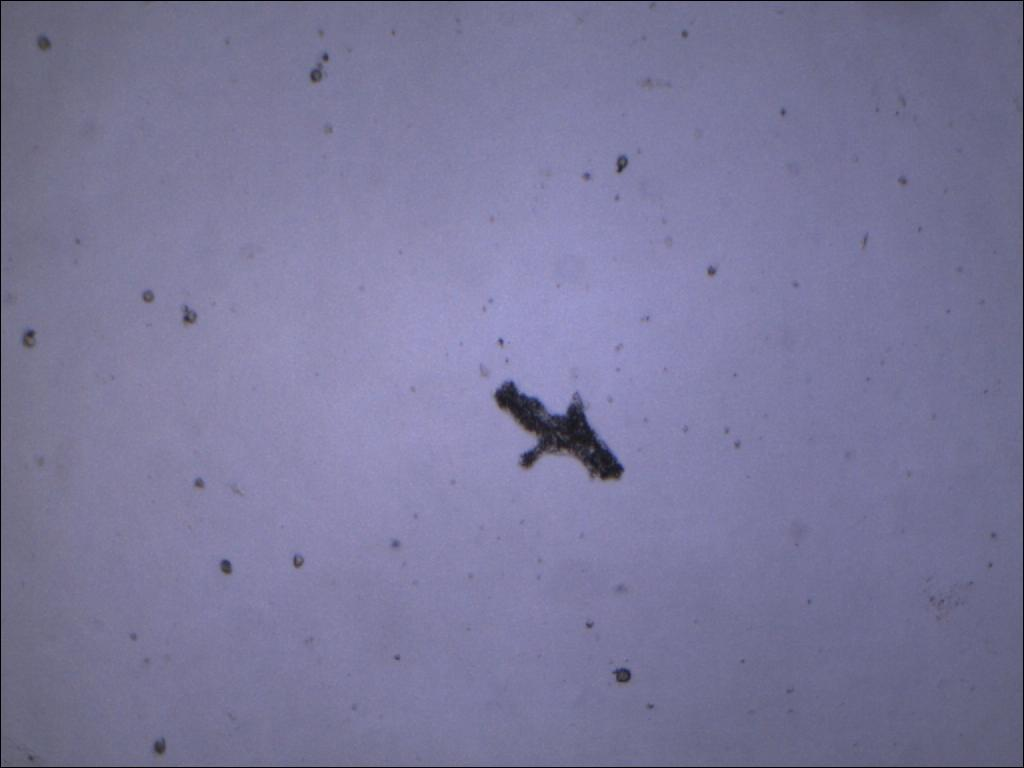amoeba: (482, 369, 637, 495)
